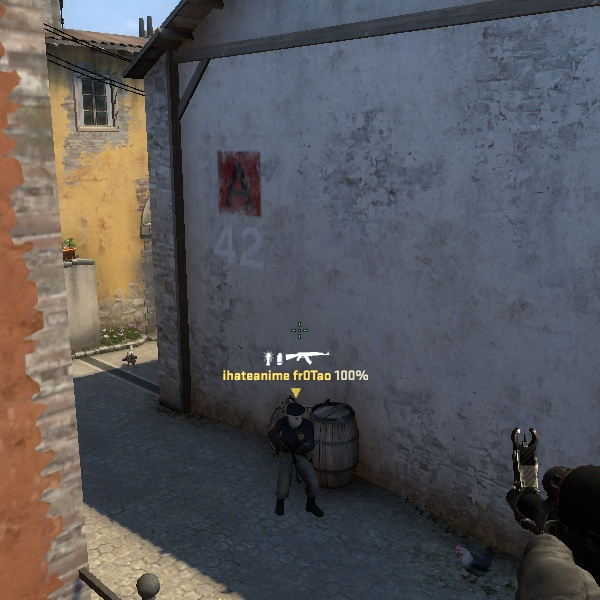t_body: (262, 396, 332, 518)
